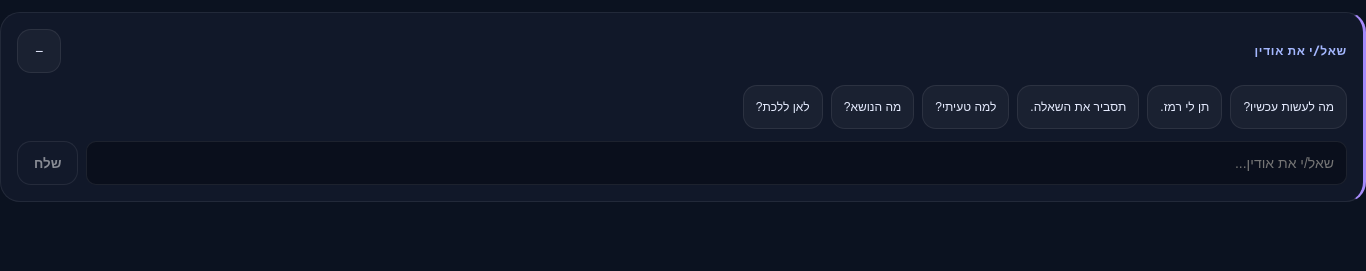
Test: AskOdinPanel (general educational assistant pass) › switches the answer when a different question is asked
Click the button with test id "ask-odin-what-now": click(1289, 107) [1230, 85, 1347, 129]
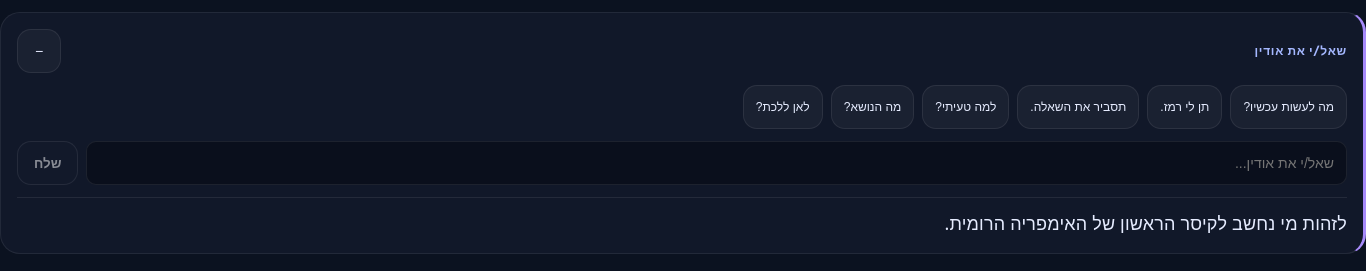
Now the text with test id "ask-odin-answer" reads "לזהות מי נחשב לקיסר הראשון של האימפריה הרומית.", box [944, 211, 1347, 235]
Click the button with test id "ask-odin-explain-question": click(1078, 107) [1017, 85, 1139, 129]
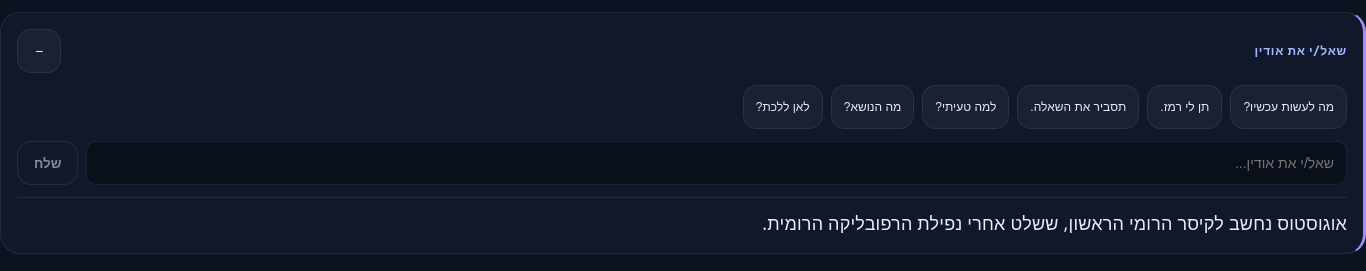
Now the text with test id "ask-odin-answer" reads "אוגוסטוס נחשב לקיסר הרומי הראשון, ששלט אחרי נפילת הרפובליקה הרומית.", box [762, 211, 1347, 235]
Now the text with test id "ask-odin-answer" no longer shows "לזהות מי נחשב לקיסר הראשון של האימפריה הרומית.", box [17, 197, 1347, 237]
